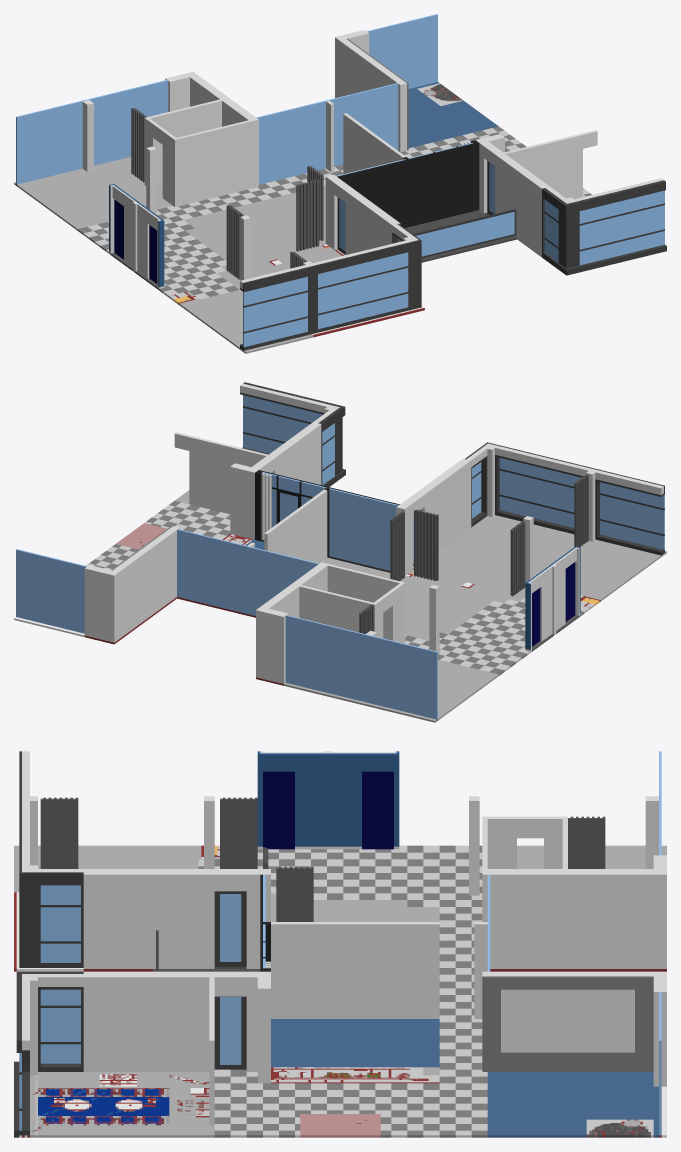
Rendered from dice_2og-102-floorplan_2.obj.
3 views of the same model, one above another, from view 1: azimuth 30°, elevation 25°; view 2: azimuth 150°, elevation 25°; view 3: azimuth 270°, elevation 25° (orthographic). The views are drawn at different scales.
Visible parts, largest first — view 1: floorplan_2; view 2: floorplan_2; view 3: floorplan_2.
Part boxes in pixels (x1=…): floorplan_2: x1=14, y1=14, x2=666, y2=353; floorplan_2: x1=14, y1=382, x2=666, y2=722; floorplan_2: x1=14, y1=751, x2=666, y2=1137.
Bounding box in the file's own units: 25.6 × 4 × 24.4.
1 material, 1 textured.
